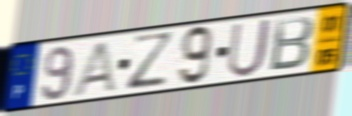9: (177, 25, 214, 88), (39, 44, 76, 102)
A: (70, 39, 119, 97)
B: (268, 14, 316, 74)
U: (225, 16, 274, 80)
Z: (125, 30, 177, 93)
